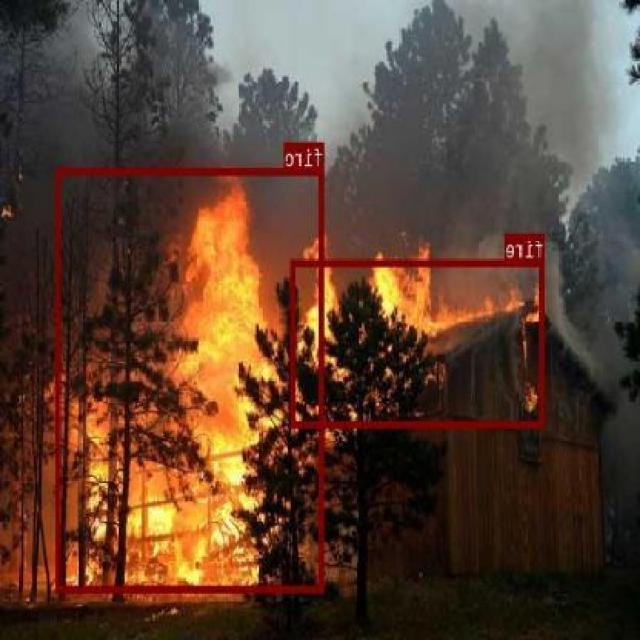Fire: (60, 187, 307, 595), (282, 258, 476, 396)
Smoke: (0, 0, 620, 382)
